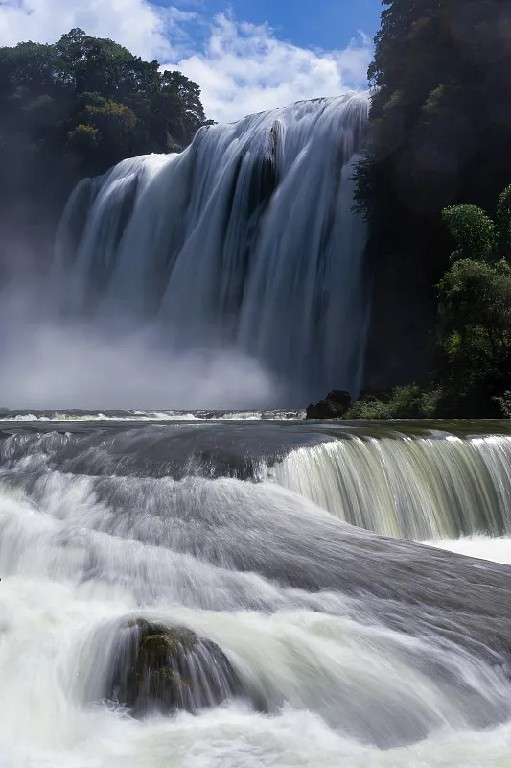Huangguoshu: (57, 88, 367, 413)
